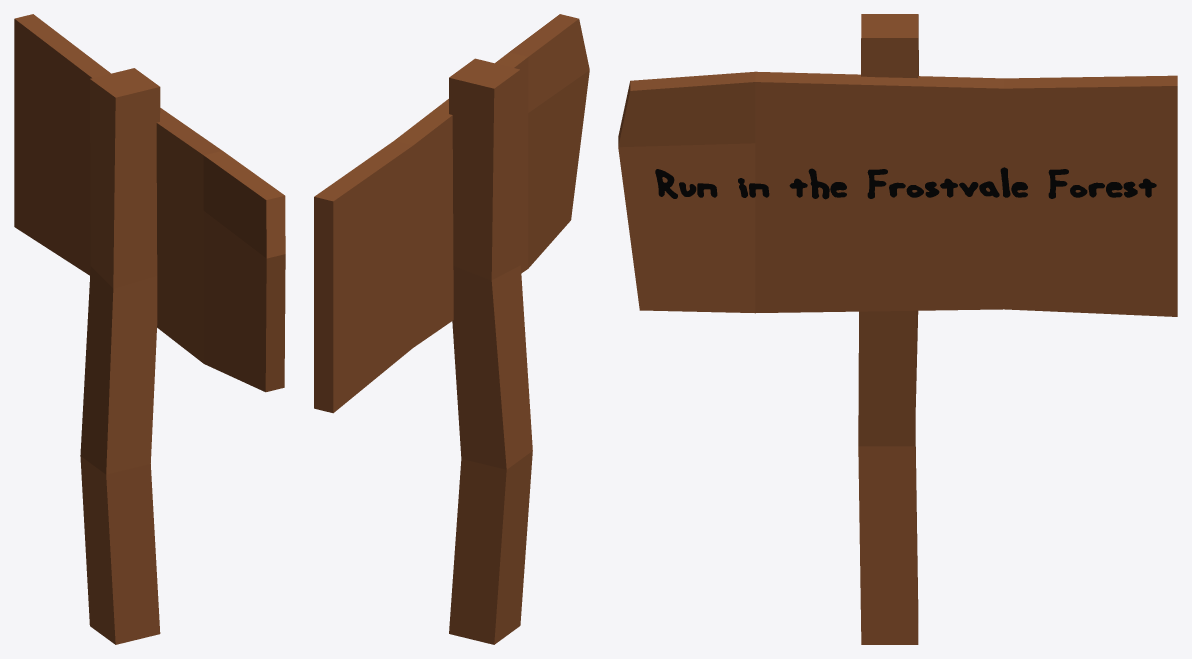
The model's file is panneauremake.fbx.
3 renders of one model, left to right at view 1: azimuth 30°, elevation 25°; view 2: azimuth 150°, elevation 25°; view 3: azimuth 270°, elevation 25°, orthographic. The views are drawn at different scales.
Parts seen in each view (by area): view 1: Cube.001, Cube; view 2: Cube.001, Cube; view 3: Cube.001, Cube, Text.
Boxes of the visible parts, x1,y1,x2,y2 form: Cube.001: [14, 14, 285, 392]; Cube: [80, 68, 160, 644]; Cube.001: [314, 14, 589, 413]; Cube: [449, 58, 532, 644]; Cube.001: [618, 71, 1177, 316]; Cube: [858, 14, 918, 644]; Text: [655, 167, 1156, 199].
Bounding box in the file's own units: 66.74 × 437 × 365.
